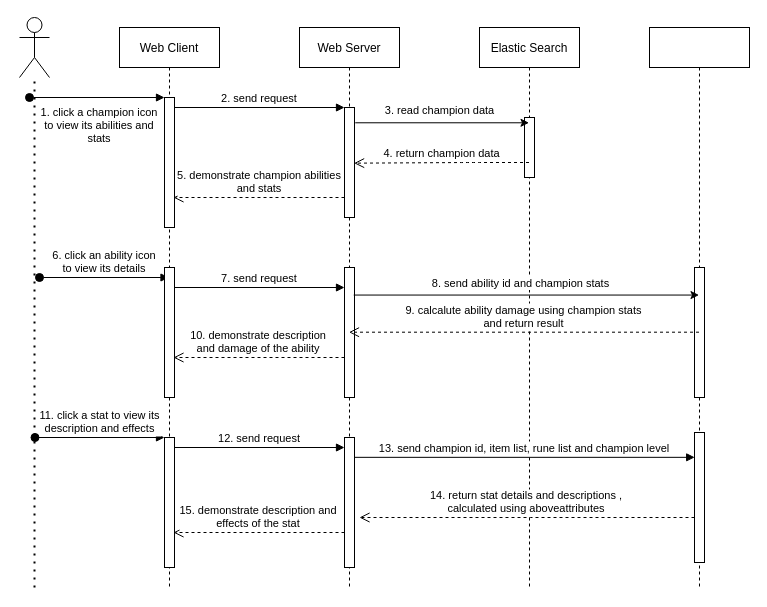
Image size: 767x607. Some labels were removed from this diagram. The centre of each missing label's shape, as x and y in pixels:
Player: pixel 34 47
Web Service: pixel 699 307
